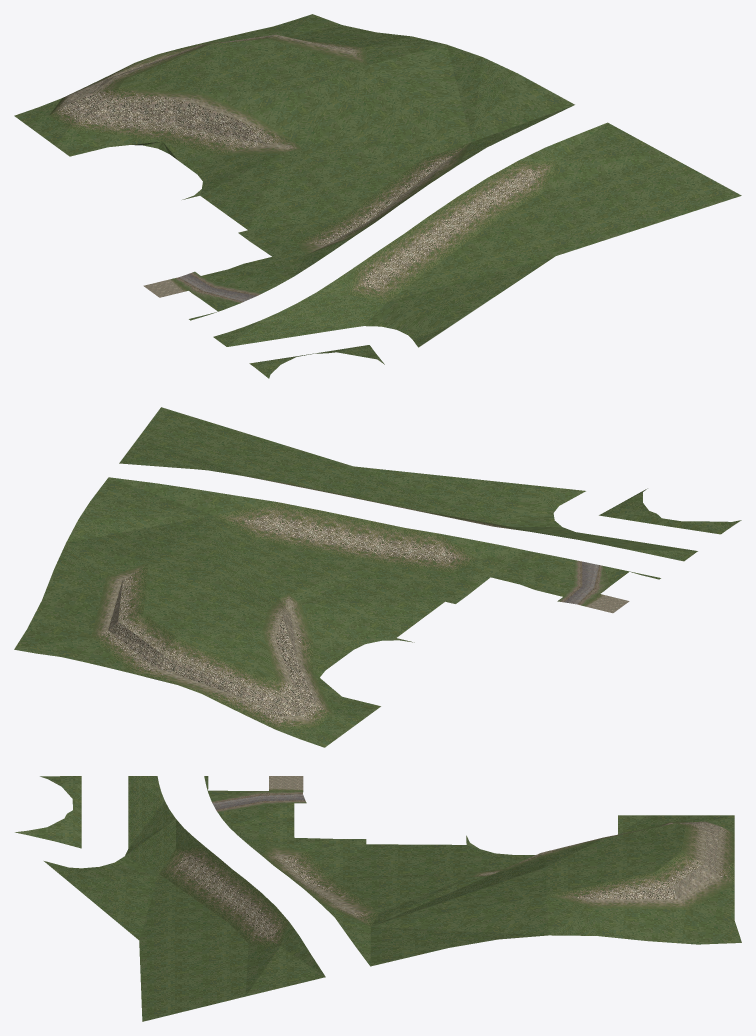
File: lodcunteground06.obj
The picture shows the model from 3 angles, top to bottom: view 1: azimuth 30°, elevation 25°; view 2: azimuth 150°, elevation 25°; view 3: azimuth 270°, elevation 25°; orthographic projection. The views are drawn at different scales.
Visible parts, largest first — view 1: LODcuntEground06; view 2: LODcuntEground06; view 3: LODcuntEground06.
Part boxes in pixels (x1,y1,x2,y2): LODcuntEground06: (14, 14, 741, 378); LODcuntEground06: (14, 407, 741, 747); LODcuntEground06: (15, 776, 741, 1021).
Bounding box in the file's own units: 270 × 32.37 × 312.
5 materials, 5 textured.
